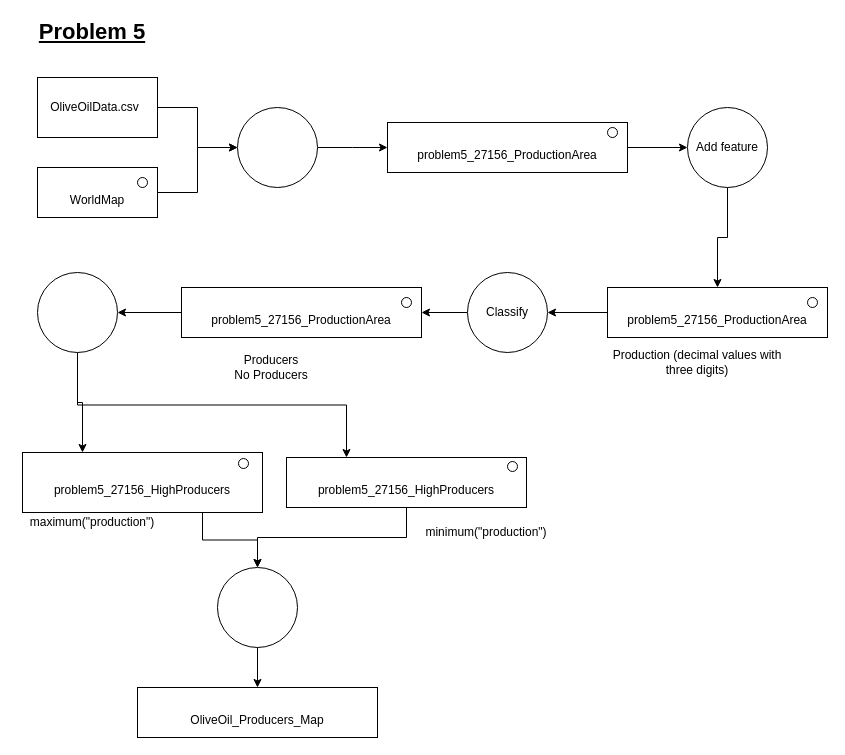
The diagram is 845 pixels wide and 755 high, and some of its shapes have lost their labels. Here are the shapes that lost their labels. From the top down, the centre of each, then its label:
pixel 277 147: Join
pixel 77 312: Select
pixel 257 607: Create
